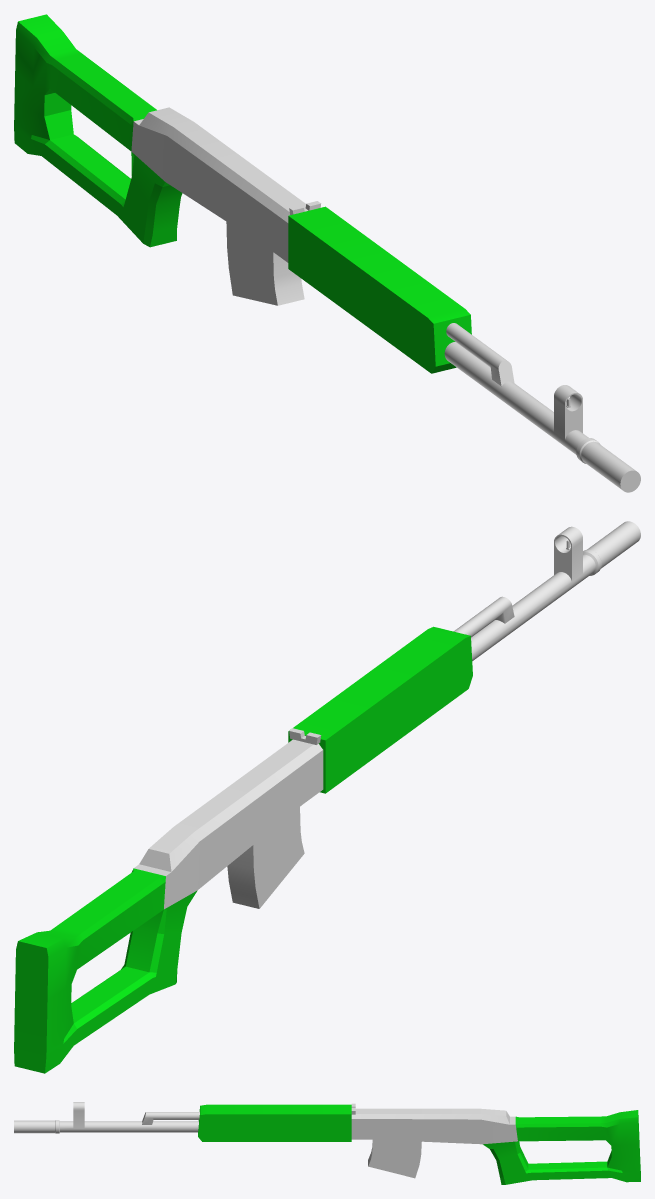
The model's file is SVD Draft.fbx.
3 renders of one model, top to bottom at view 1: azimuth 30°, elevation 25°; view 2: azimuth 150°, elevation 25°; view 3: azimuth 270°, elevation 25°, orthographic. The views are drawn at different scales.
Parts seen in each view (by area): view 1: Cube.007; view 2: Cube.007; view 3: Cube.007.
Boxes of the visible parts, x1,y1,x2,y2 form: Cube.007: (14,14,640,492); Cube.007: (14,521,640,1073); Cube.007: (14,1102,640,1184).
Size of the model in its own units: 22.47 by 87.2 by 627.
